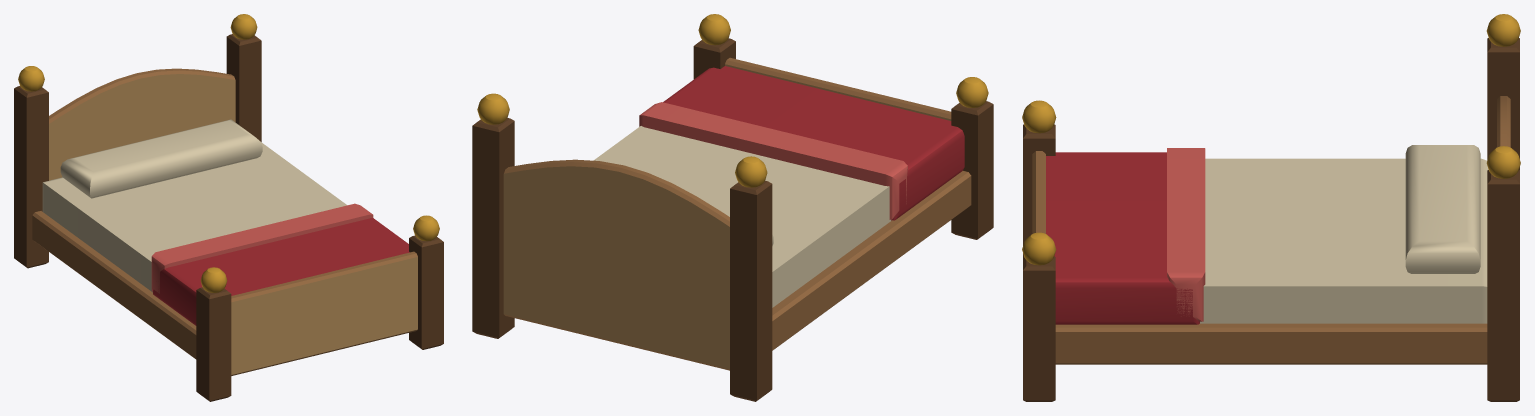
The model's file is Bed_14.glb.
3 views of the same model, side by side, from view 1: azimuth 30°, elevation 25°; view 2: azimuth 150°, elevation 25°; view 3: azimuth 270°, elevation 25° (orthographic). The views are drawn at different scales.
Parts seen in each view (by area): view 1: Bed_14; view 2: Bed_14; view 3: Bed_14.
Part boxes in pixels (bbox=[...]): Bed_14: bbox=[14, 14, 443, 401]; Bed_14: bbox=[472, 14, 993, 401]; Bed_14: bbox=[1022, 14, 1520, 401].
Size of the model in its own units: 5.09 by 4.03 by 7.32.
